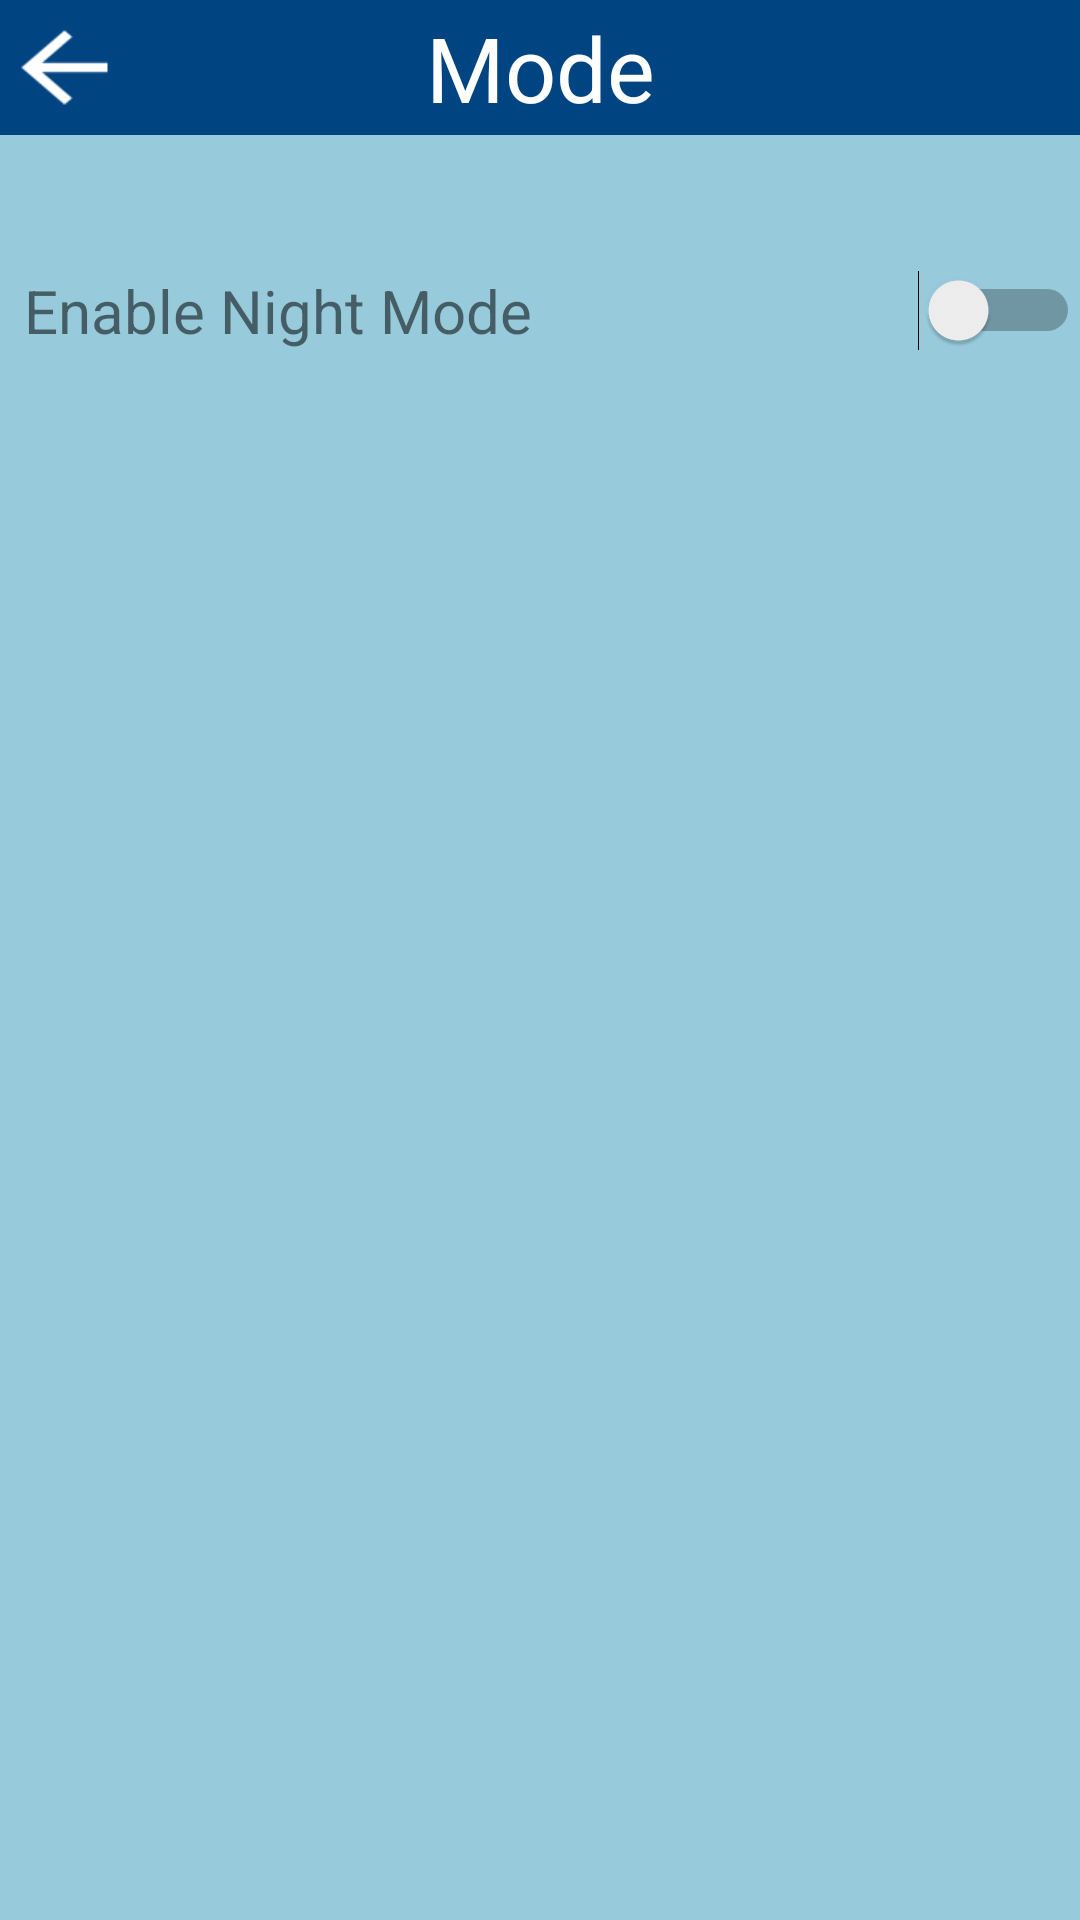

Locate icon controls on the screen. Image size 1080px x 1920px, boxes as detection(x1, y1, x2, y2).
back: detection(21, 30, 108, 105)
